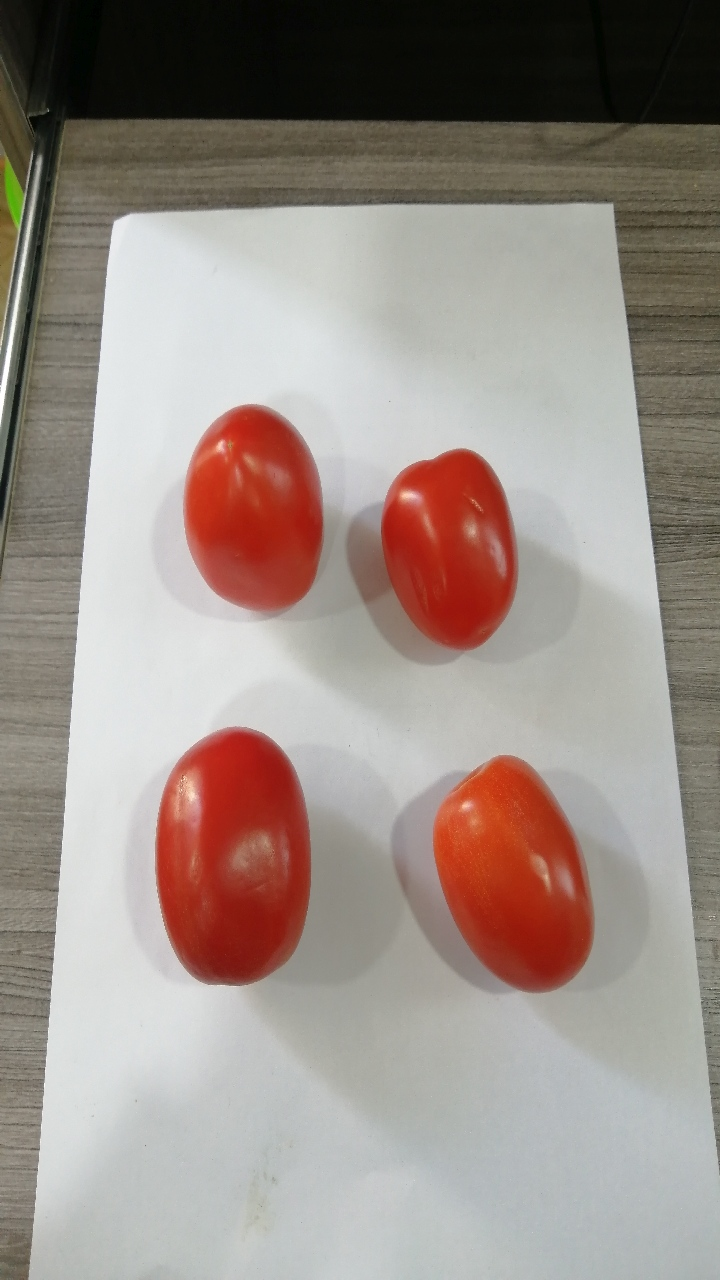tomateRojo: (138, 714, 328, 1002), (411, 743, 609, 1000), (169, 383, 349, 629), (368, 437, 555, 665)
